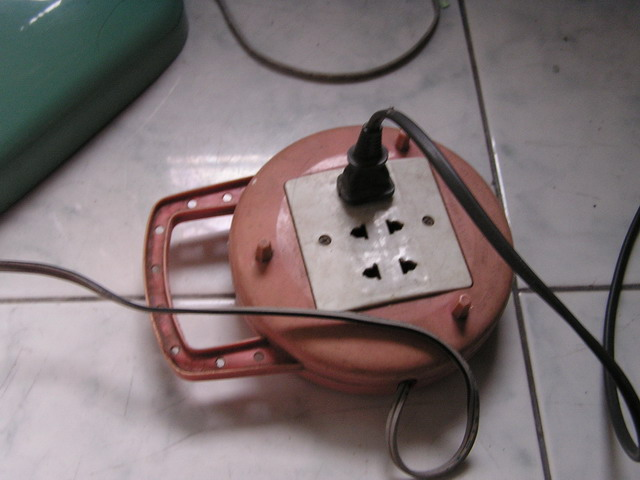Three_eye_plug: (135, 99, 533, 411)
